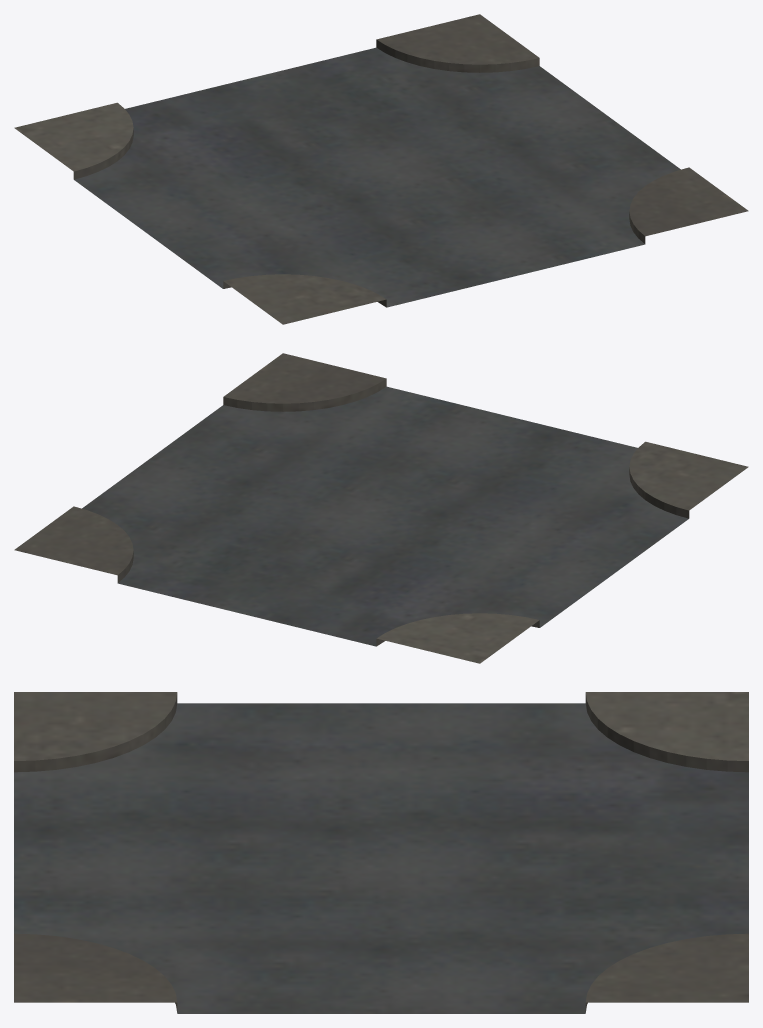
The model's file is roadCrossroads.fbx.
3 renders of one model, top to bottom at view 1: azimuth 30°, elevation 25°; view 2: azimuth 150°, elevation 25°; view 3: azimuth 270°, elevation 25°, orthographic. The views are drawn at different scales.
Visible parts, largest first — view 1: roadCrossroads; view 2: roadCrossroads; view 3: roadCrossroads.
Part boxes in pixels (x1,y1,x2,y2): roadCrossroads: (14, 14, 748, 324); roadCrossroads: (14, 353, 748, 663); roadCrossroads: (14, 692, 748, 1013).
Size of the model in its own units: 900 by 15 by 900.
